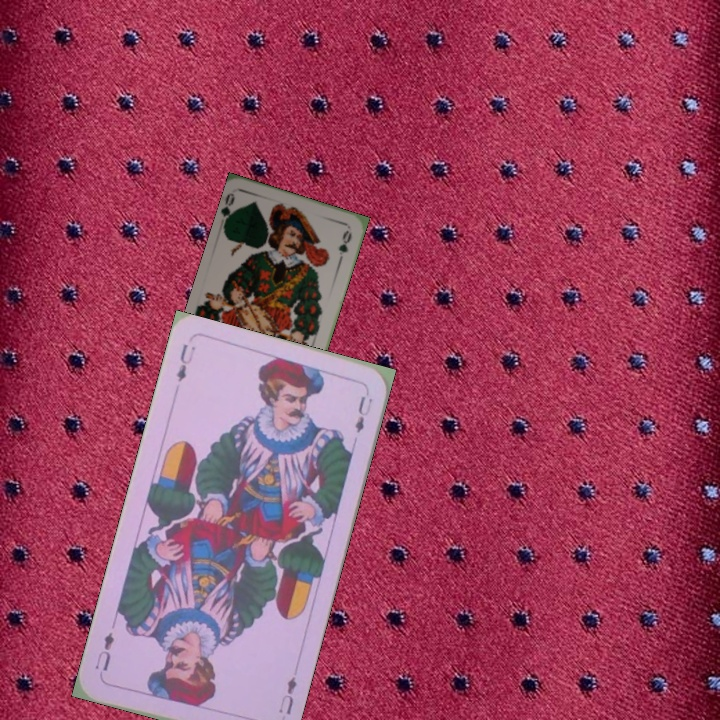EU: (274, 672, 300, 718), (172, 340, 198, 384)
GO: (219, 189, 241, 229)
